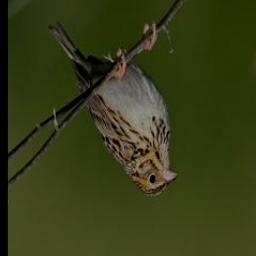Sparrow: (47, 23, 177, 199)
